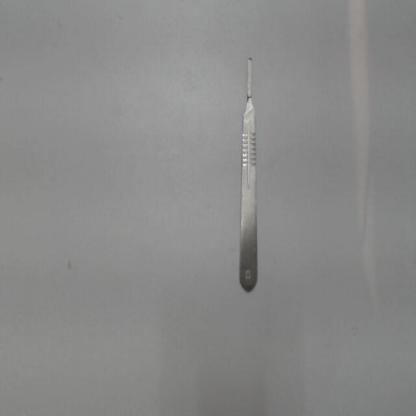No.4 BP Handle: (236, 51, 262, 297)
